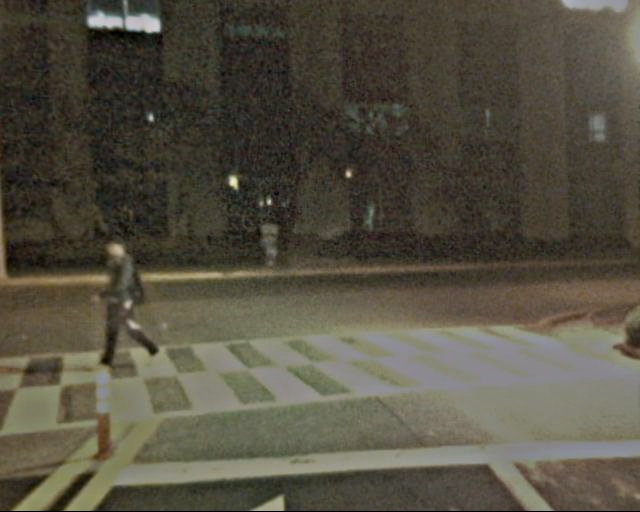person: (91, 235, 157, 372)
